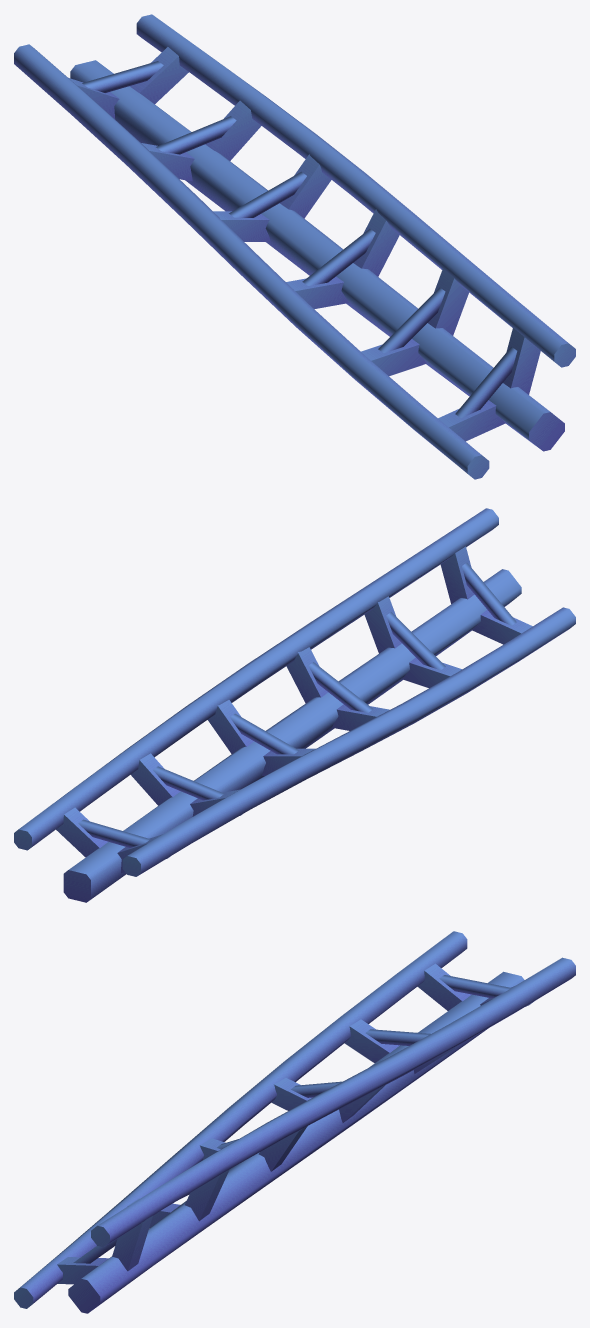
Rendered from coaster-steel-straight-skew-right.glb.
The picture shows the model from 3 angles, top to bottom: view 1: azimuth 30°, elevation 25°; view 2: azimuth 150°, elevation 25°; view 3: azimuth 330°, elevation 25°; orthographic projection. The views are drawn at different scales.
Parts seen in each view (by area): view 1: coaster-steel-straight-skew-right; view 2: coaster-steel-straight-skew-right; view 3: coaster-steel-straight-skew-right.
Boxes of the visible parts, <box> form: coaster-steel-straight-skew-right: <box>14,14,575,479</box>; coaster-steel-straight-skew-right: <box>14,508,575,902</box>; coaster-steel-straight-skew-right: <box>14,931,575,1313</box>.
Size of the model in its own units: 2.38 by 1.59 by 12.
Materials: 1 (1 with a texture image).
